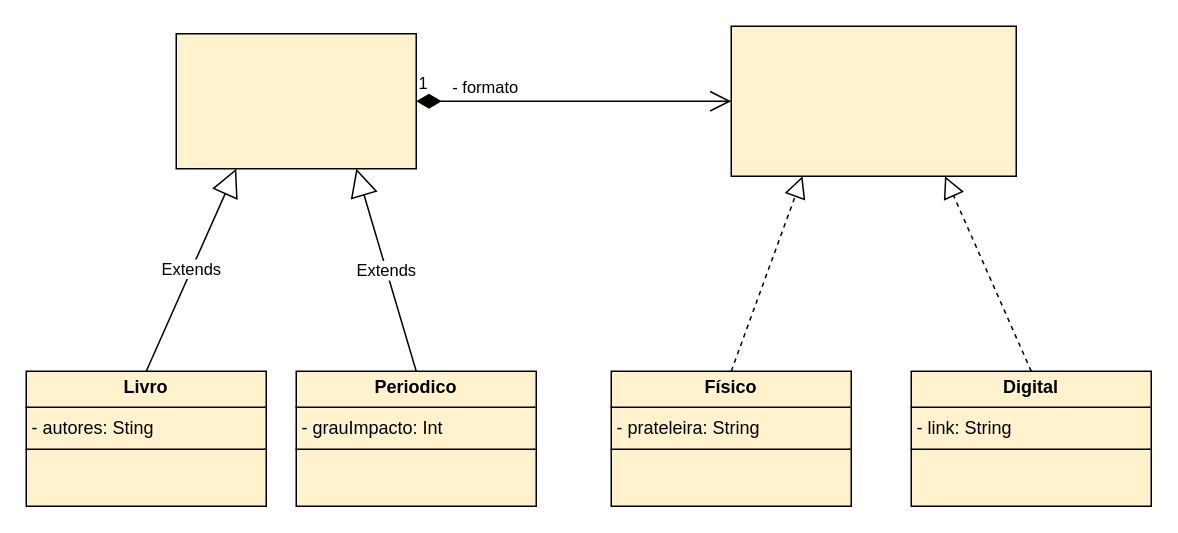
This 1178x533 diagram has some shape labels left out. Each missing label, with the centre of its shape:
"<< abstract >> Material - titulo: String - anoPublicacao: Int" belongs at pixel 295 100.
"<<Interface>> Formato" belongs at pixel 873 100.
